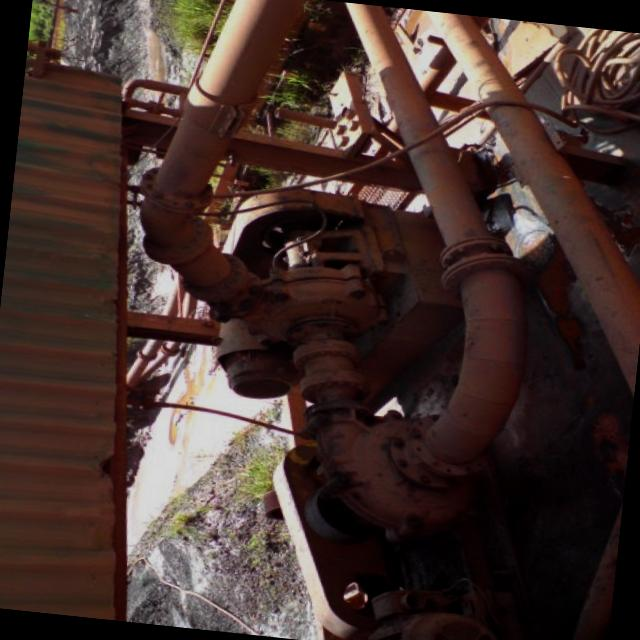gas: (423, 9, 640, 401), (346, 1, 514, 483), (142, 0, 295, 316)
